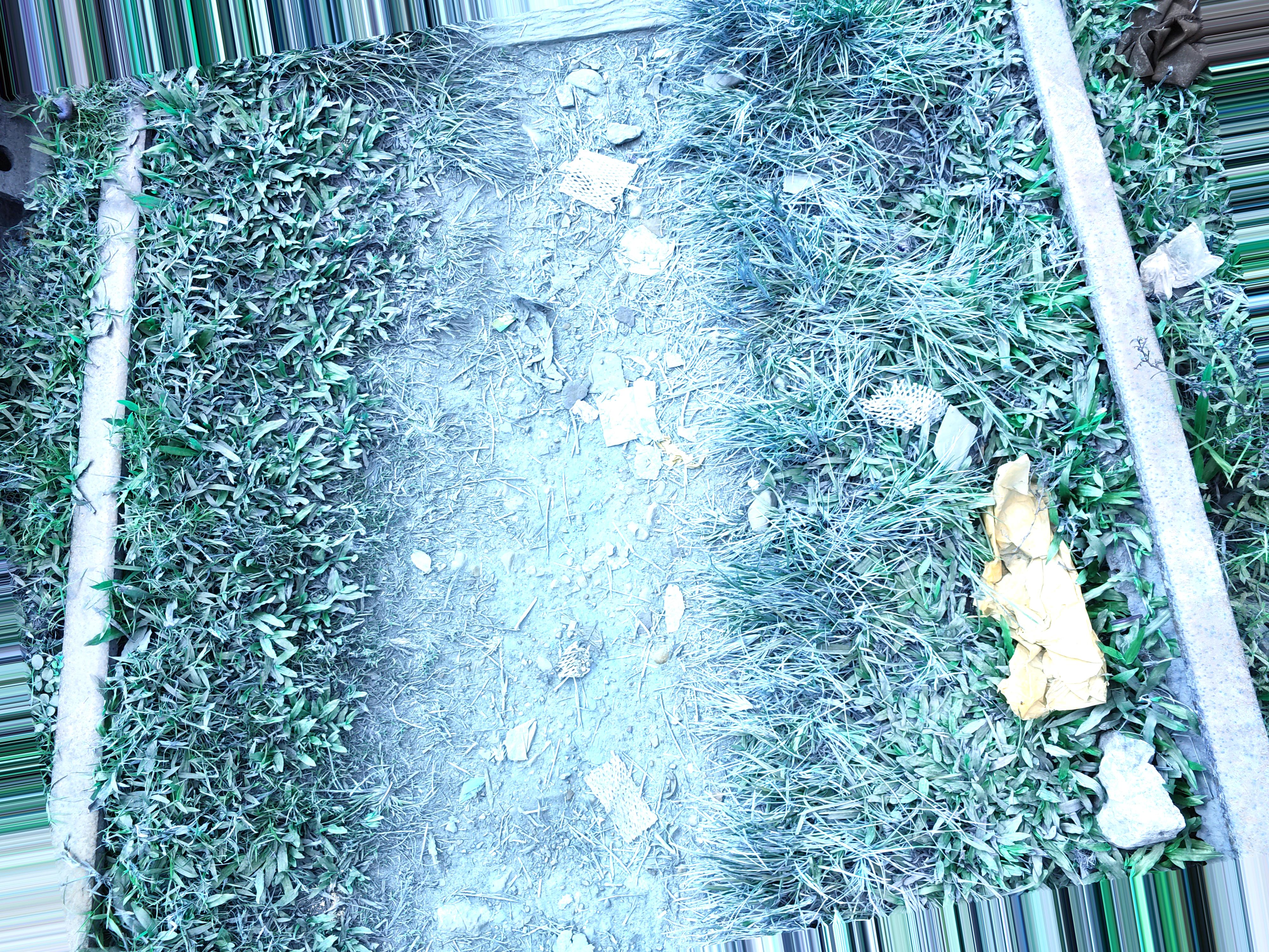tracks_fault: (317, 199, 825, 769)
